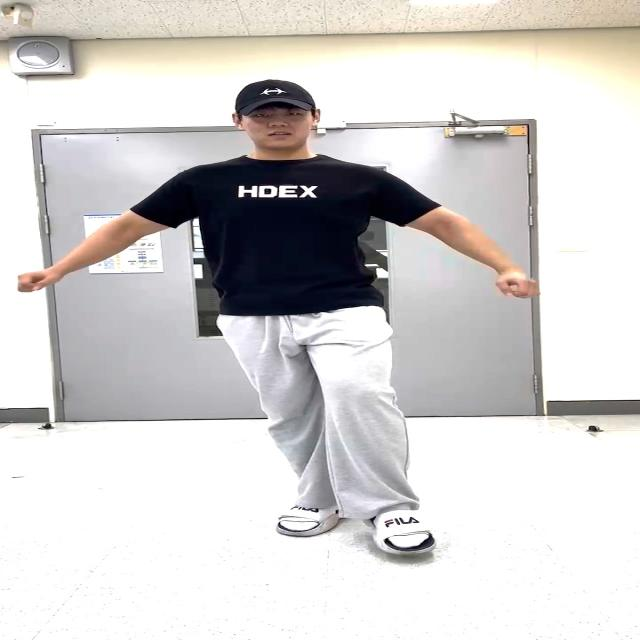leg: (316, 339, 469, 559)
